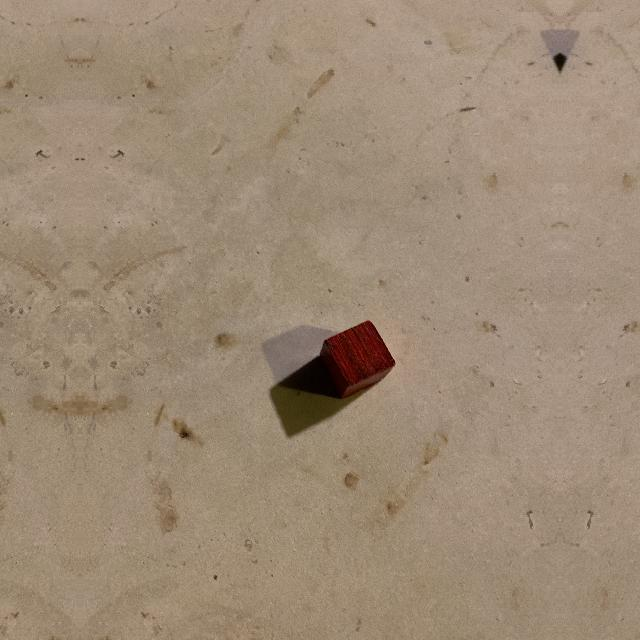red cube: (317, 322, 395, 401)
